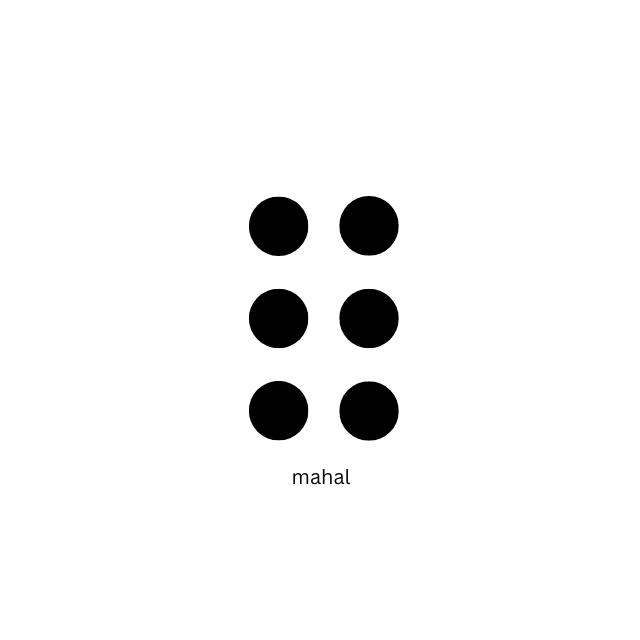one_cell_non_alphabet_mahal: (247, 194, 400, 442)
